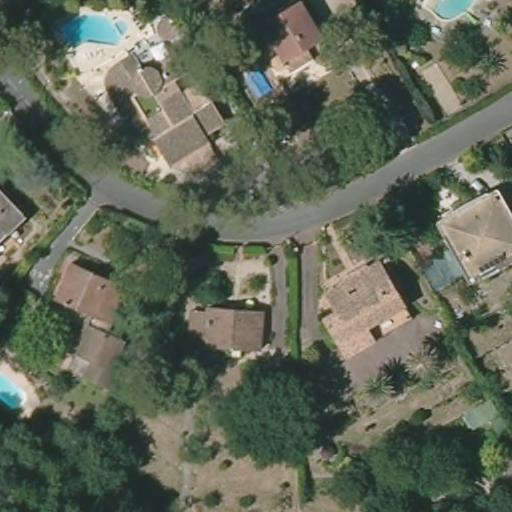pool: (49, 9, 134, 54), (0, 364, 32, 416), (420, 0, 482, 22)
